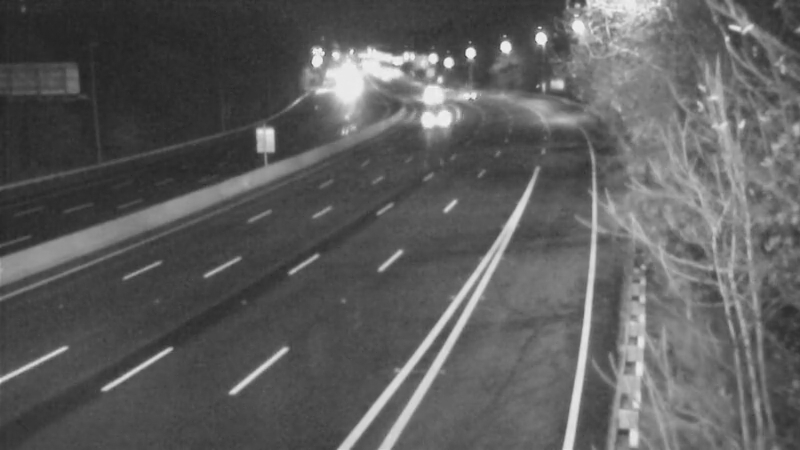vehicle: (439, 67, 489, 117), (401, 71, 451, 121), (415, 90, 465, 140)
